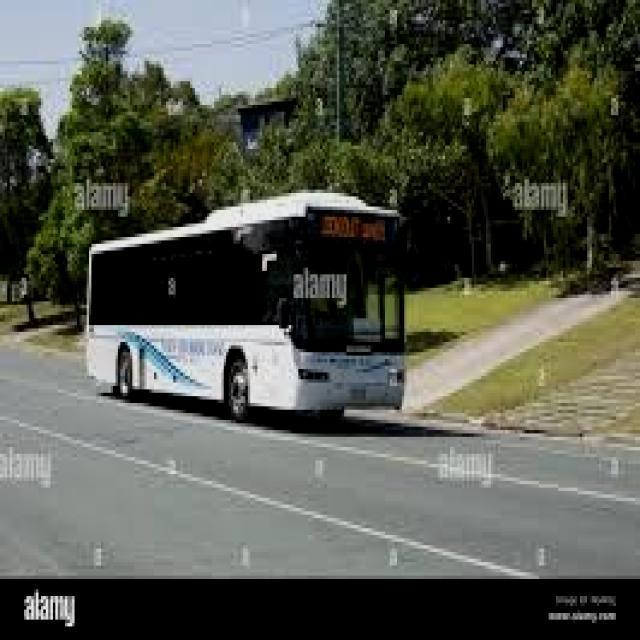Bus: (75, 192, 421, 446)
